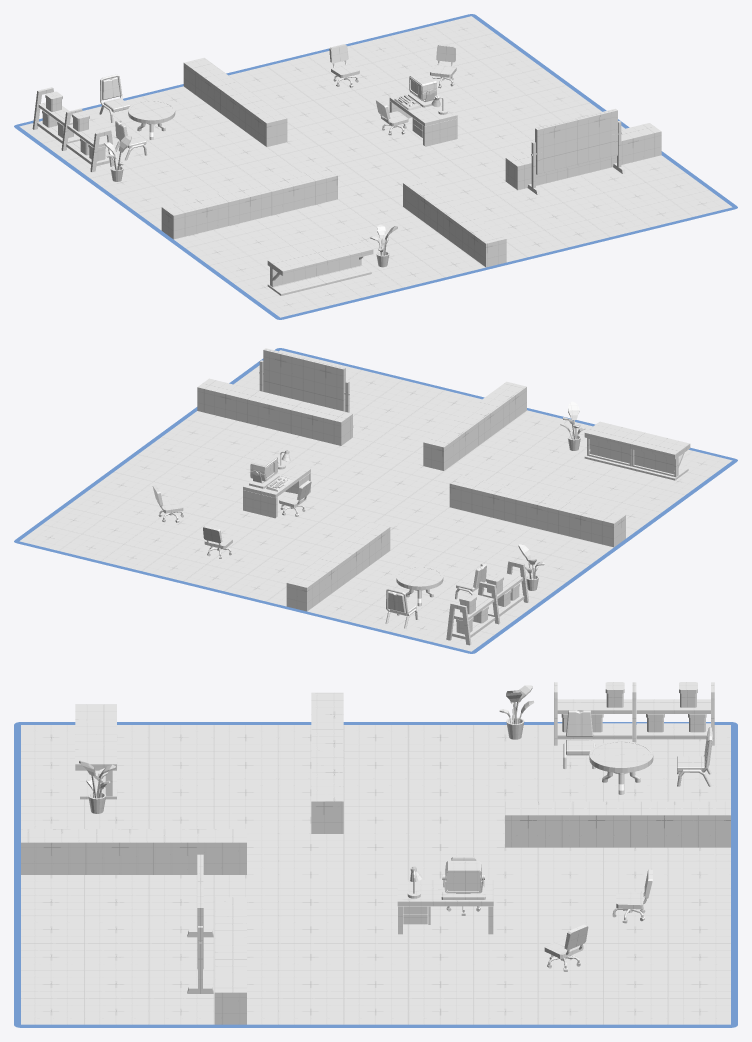
The model's file is office.glb.
3 renders of one model, top to bottom at view 1: azimuth 30°, elevation 25°; view 2: azimuth 150°, elevation 25°; view 3: azimuth 270°, elevation 25°, orthographic. The views are drawn at different scales.
Visible parts, largest first — view 1: static-floor, static-border, board, static-counter, static-cabinet, static-work-desk.003, static-cafe-table, cublicle.006, static-chair, static-work-chair.002, static-work-chair.001, static-work-chair.003 (+1 smaller); view 2: static-floor, static-border, board, static-counter, static-cabinet, static-work-desk.003, static-cafe-table, cublicle.006, static-chair, static-work-chair.002, static-work-chair.003, static-plant.001 (+1 smaller); view 3: static-floor, static-border, static-cabinet, static-counter, static-work-desk.003, static-cafe-table, cublicle.006, board, static-chair.001, static-work-chair.001, static-work-chair.002, static-chair (+2 smaller).
Part boxes in pixels (box(x1,y1,x2,y2)): static-floor: box(19, 16, 732, 317); static-border: box(14, 14, 737, 319); board: box(527, 108, 625, 194); static-counter: box(267, 238, 373, 295); static-cabinet: box(32, 87, 114, 172); static-work-desk.003: box(389, 92, 457, 146); static-cafe-table: box(128, 100, 175, 139); cublicle.006: box(394, 72, 436, 110); static-chair: box(99, 74, 130, 122); static-work-chair.002: box(329, 44, 359, 87); static-work-chair.001: box(430, 44, 456, 88); static-work-chair.003: box(376, 99, 408, 135); static-floor: box(19, 350, 732, 651); static-border: box(14, 348, 737, 653); board: box(259, 348, 353, 427); static-counter: box(584, 421, 690, 480); static-cabinet: box(446, 560, 528, 645); static-work-desk.003: box(243, 461, 310, 518); static-cafe-table: box(396, 566, 443, 606); cublicle.006: box(249, 454, 293, 491); static-chair: box(385, 588, 418, 628); static-work-chair.002: box(203, 525, 232, 558); static-work-chair.003: box(279, 480, 311, 516); static-plant.001: box(560, 401, 585, 450); static-floor: box(21, 692, 730, 1024); static-border: box(14, 722, 737, 1027); static-cabinet: box(554, 682, 714, 745); static-counter: box(75, 704, 116, 799); static-work-desk.003: box(397, 880, 493, 934); static-cafe-table: box(589, 741, 653, 794); cublicle.006: box(441, 861, 485, 899); board: box(187, 854, 213, 993); static-chair.001: box(563, 710, 595, 768); static-work-chair.001: box(544, 924, 588, 971); static-work-chair.002: box(612, 869, 652, 923); static-chair: box(677, 727, 712, 786).
Size of what is drawn, in the model's own units: 10.2 by 1.31 by 10.2.
Materials: 2 (1 with a texture image).
